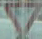Give way: (3, 2, 41, 37)
